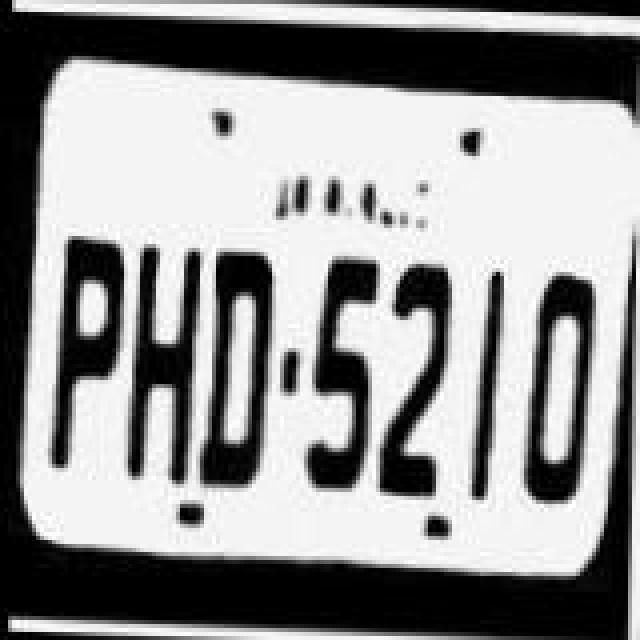1: (450, 254, 514, 506)
2: (364, 240, 456, 508)
5: (292, 238, 384, 510)
D: (190, 230, 278, 510)
H: (118, 214, 206, 494)
O: (510, 258, 606, 518)
P: (40, 210, 132, 486)
